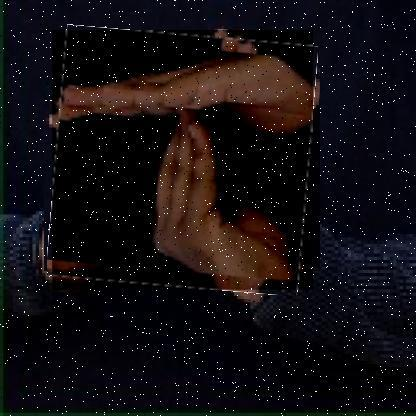Z: (51, 30, 313, 291)
